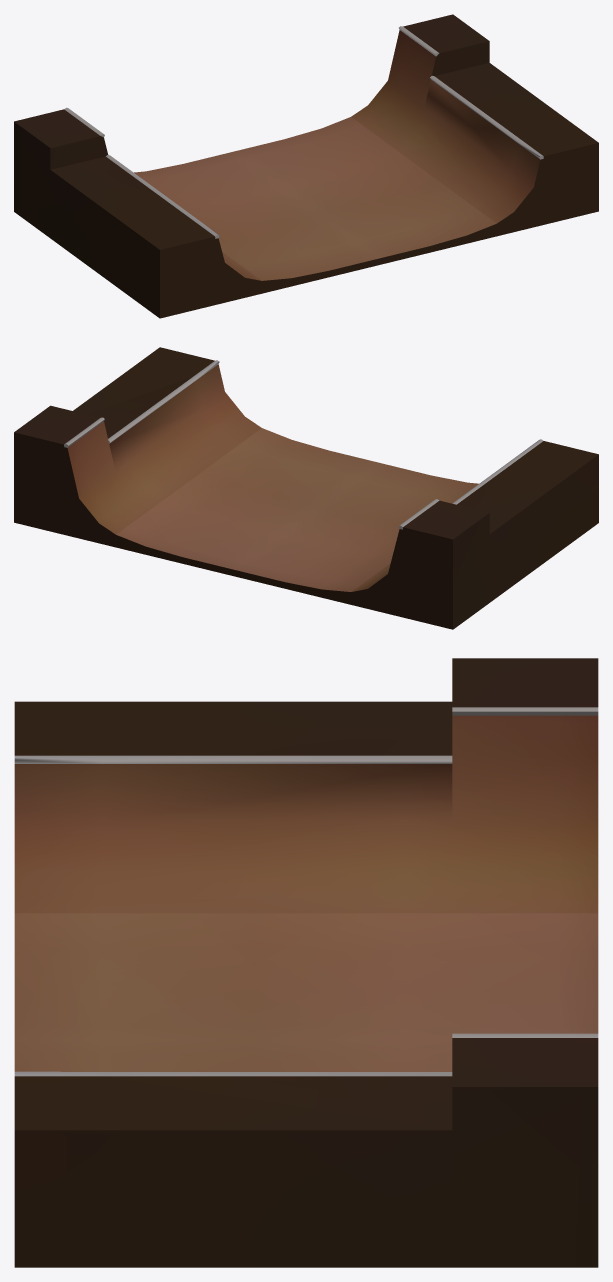
Rendered from HalfPipeExtension.glb.
3 views of the same model, one above another, from view 1: azimuth 30°, elevation 25°; view 2: azimuth 150°, elevation 25°; view 3: azimuth 270°, elevation 25° (orthographic). The views are drawn at different scales.
Visible parts, largest first — view 1: HalfPipeExtension; view 2: HalfPipeExtension; view 3: HalfPipeExtension.
Part boxes in pixels (x1,y1,x2,y2): HalfPipeExtension: (14, 14, 598, 318); HalfPipeExtension: (14, 347, 598, 629); HalfPipeExtension: (14, 658, 598, 1267).
Bounding box in the file's own units: 13.9 × 2.76 × 8.
Materials: 1 (1 with a texture image).
